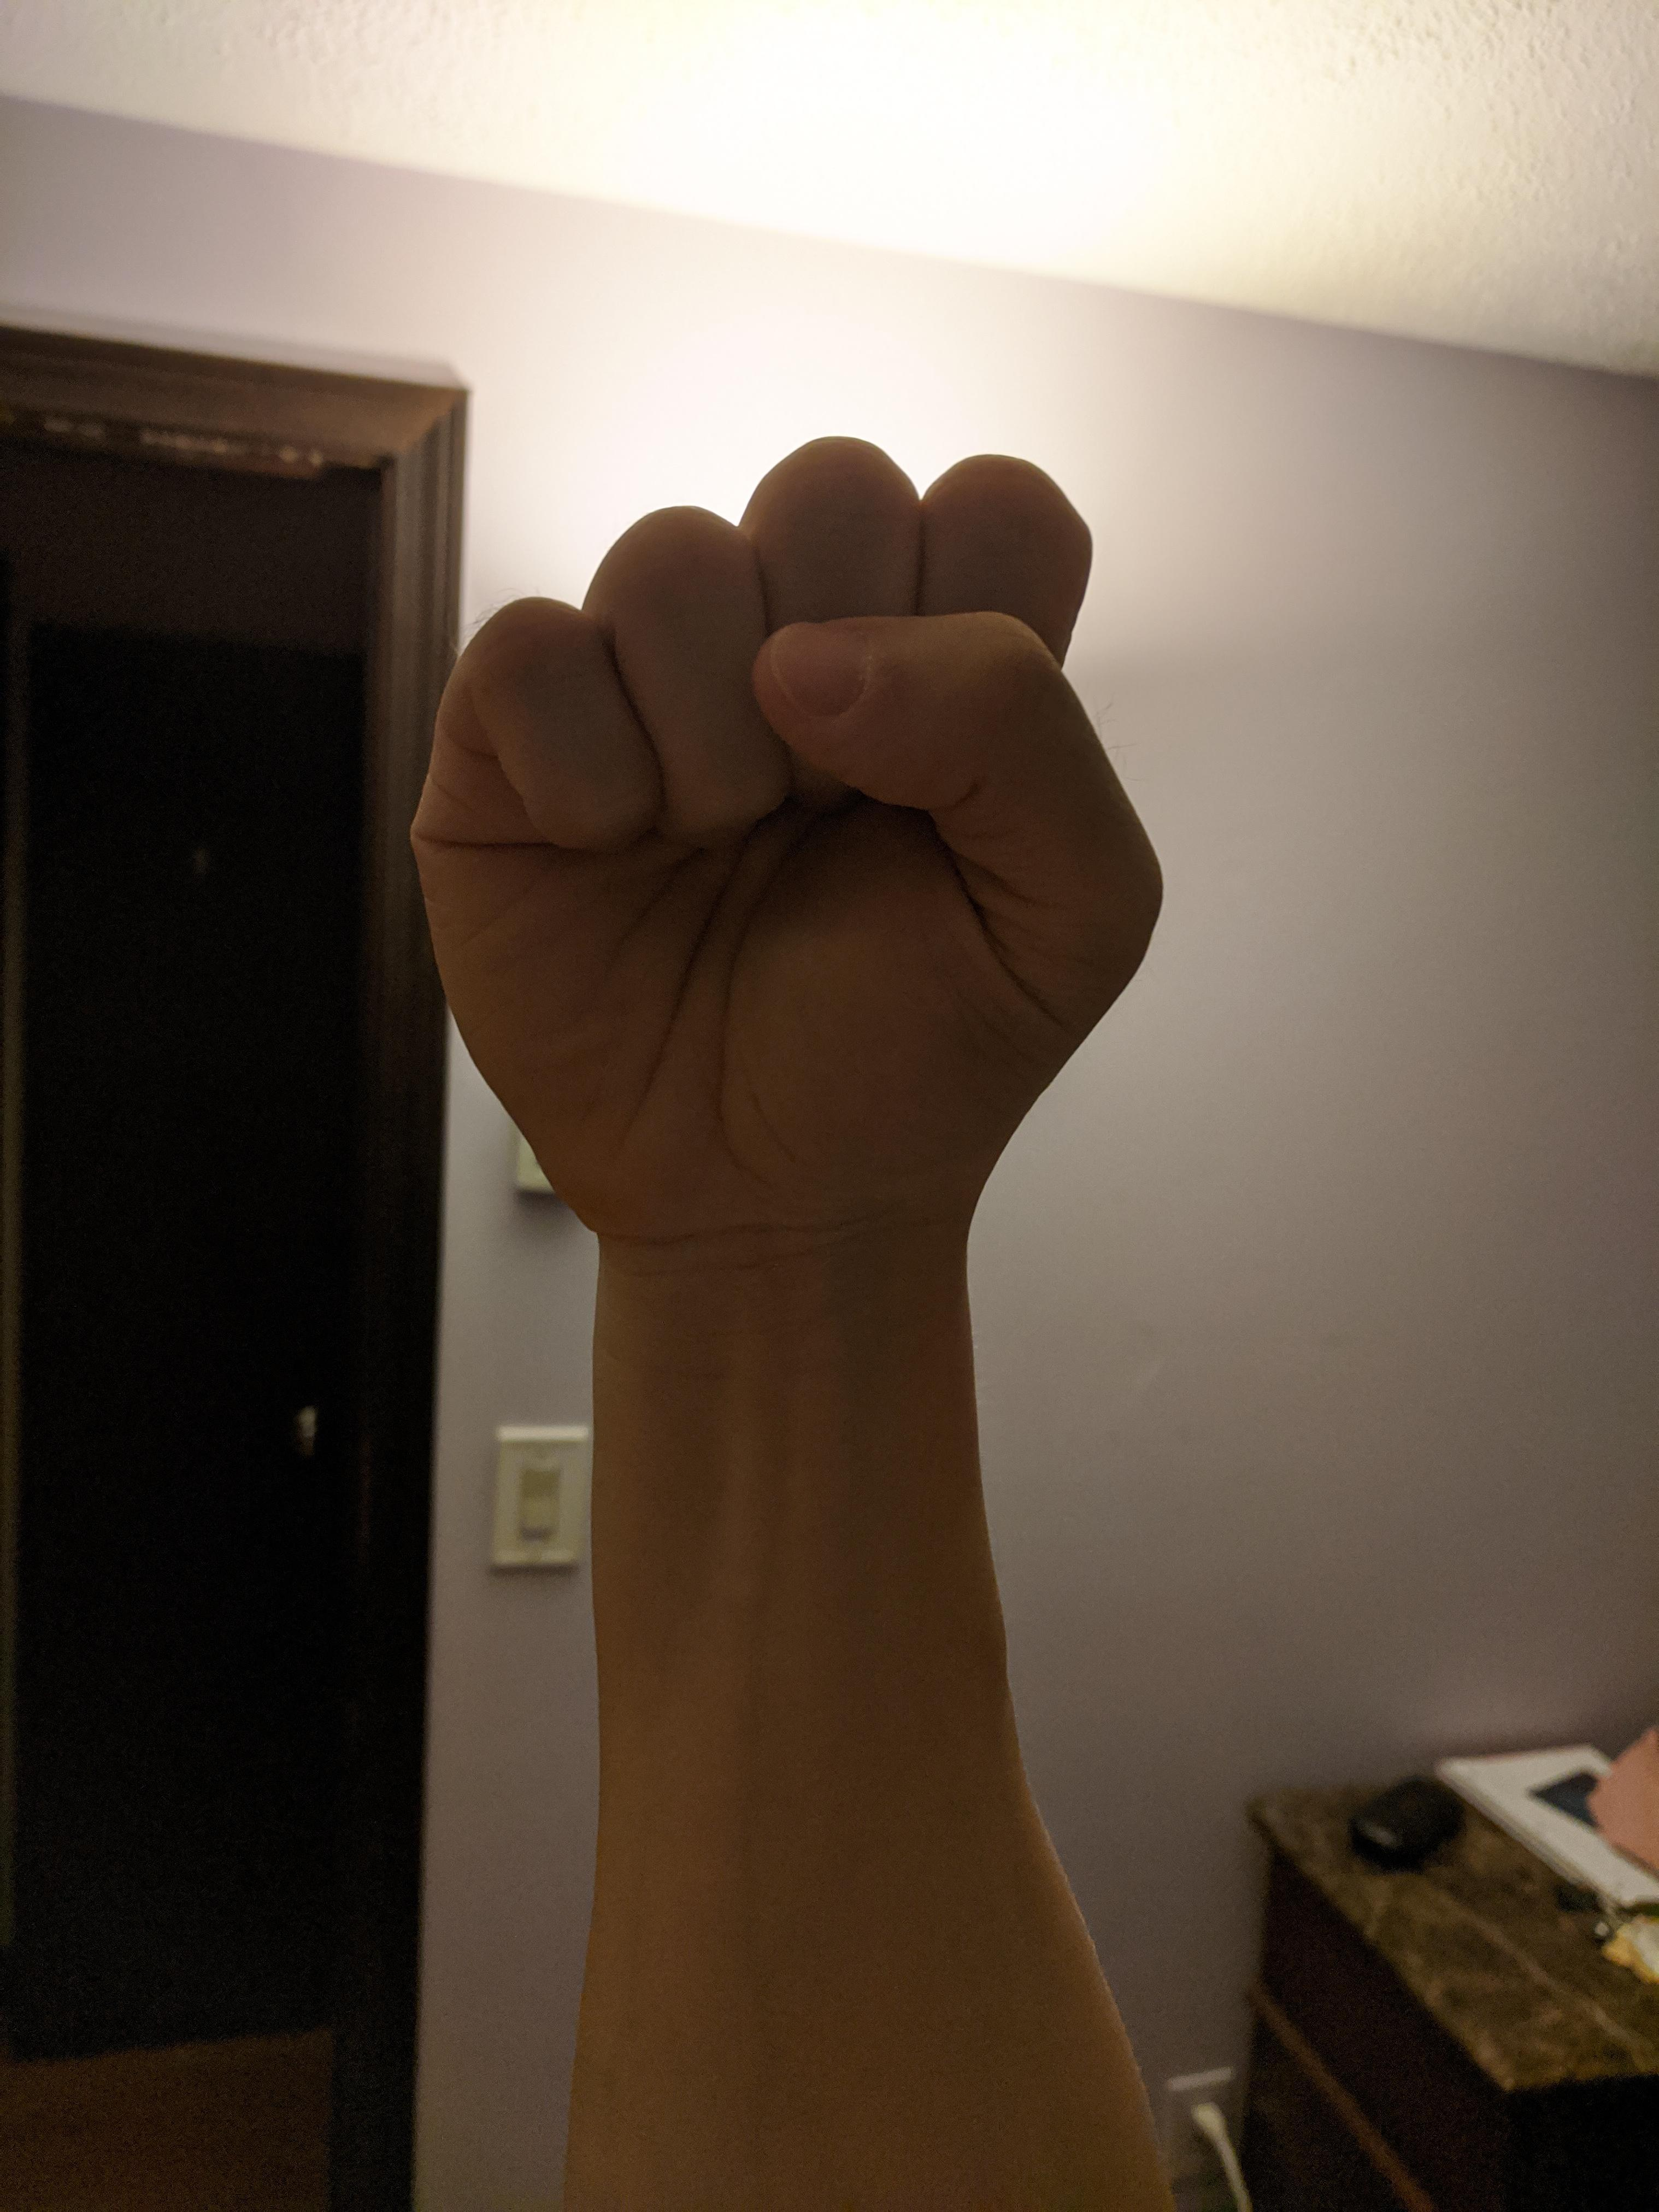S: (396, 411, 1184, 1268)
